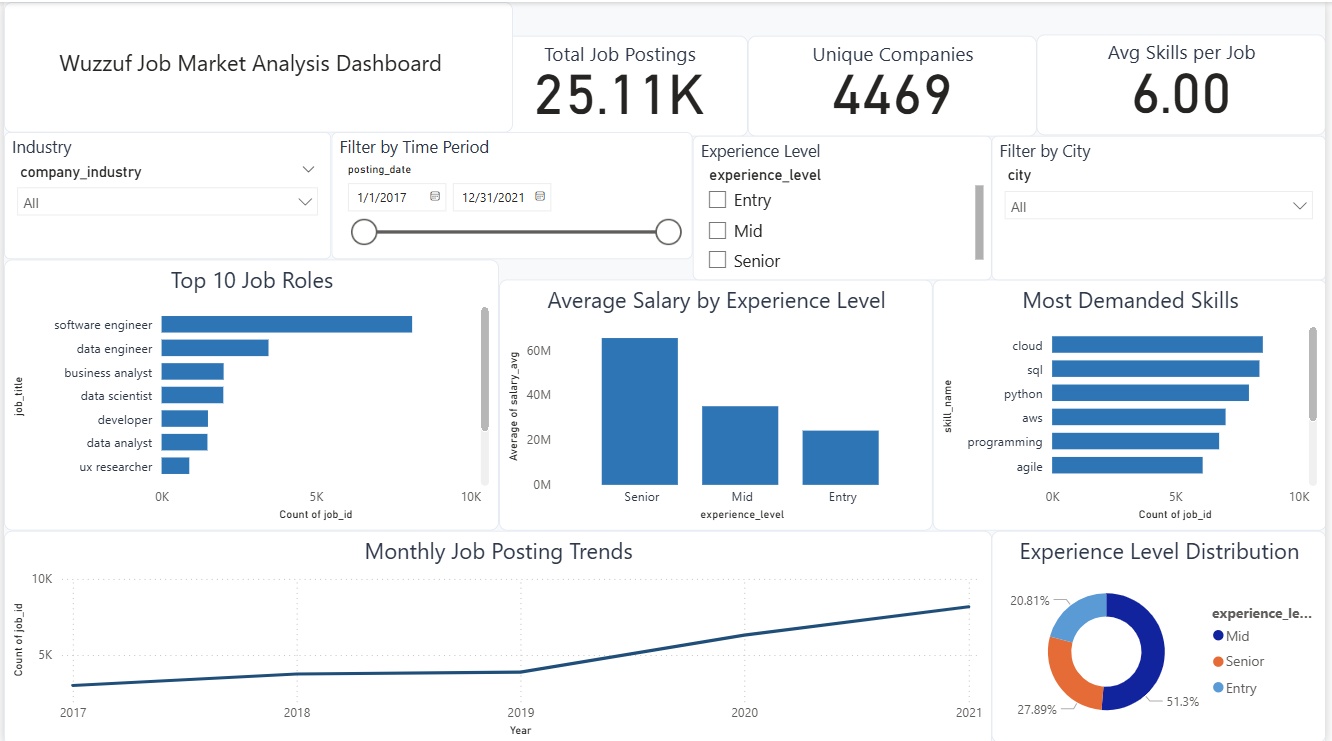

This screenshot's page, from the dashboard's own definition file:
{"tool":"powerbi","page":{"name":"Page 1","canvas":[1280,720],"ordinal":0},"visuals":[{"type":"card","title":"Total Job Postings","fields":{"Values":["CountNonNull(jobs_powerbi.job_id)"]},"box":[470.7,32.9,249.7,97.4],"z":0},{"type":"card","title":"Unique Companies","fields":{"Values":["Count(jobs_powerbi.company_name)"]},"box":[720.4,32.9,279.9,97.4],"z":1000},{"type":"clusteredBarChart","title":"Top 10 Job Roles","fields":{"Category":["jobs_powerbi.job_title"],"Y":["CountNonNull(jobs_powerbi.job_id)"]},"box":[0,249.7,478.9,262.1],"z":2000},{"type":"clusteredBarChart","title":"Most Demanded Skills","fields":{"Category":["skills_powerbi.skill_name"],"Y":["CountNonNull(job_skills_powerbi.job_id)"]},"box":[898.8,269,381.5,242.9],"z":3000},{"type":"donutChart","title":"Experience Level Distribution","fields":{"Category":["jobs_powerbi.experience_level"],"Y":["CountNonNull(jobs_powerbi.job_id)"]},"box":[956.4,511.8,323.8,205.8],"z":4000},{"type":"clusteredColumnChart","title":"Average Salary by Experience Level","fields":{"Category":["jobs_powerbi.experience_level"],"Y":["Avg(jobs_powerbi.salary_avg)"]},"box":[478.9,269,419.9,242.9],"z":5000},{"type":"lineChart","title":"Monthly Job Posting Trends","fields":{"Category":["jobs_powerbi.posting_date.Variation.Date Hierarchy.Year","jobs_powerbi.posting_date.Variation.Date Hierarchy.Quarter","jobs_powerbi.posting_date.Variation.Date Hierarchy.Month","jobs_powerbi.posting_date.Variation.Date Hierarchy.Day"],"Y":["CountNonNull(jobs_powerbi.job_id)"]},"box":[0,511.8,956.4,208.6],"z":6000},{"type":"slicer","title":"Industry","fields":{"Values":["jobs_powerbi.company_industry"]},"box":[0,126.2,317,123.5],"z":7000},{"type":"slicer","title":"Experience Level","fields":{"Values":["jobs_powerbi.experience_level"]},"box":[666.9,129,289.5,140],"z":8000},{"type":"slicer","title":"Filter by City","fields":{"Values":["jobs_powerbi.city"]},"box":[956.4,129,323.8,140],"z":9000},{"type":"slicer","title":"Filter by Time Period","fields":{"Values":["jobs_powerbi.posting_date"]},"box":[317,126.2,349.9,123.5],"z":10000},{"type":"card","title":"Avg Skills per Job","fields":{"Values":["jobs_powerbi.Skills per Job"]},"box":[1000.3,31.6,279.9,97.4],"z":11000},{"type":"textbox","box":[0,0,492.6,126.2],"z":12000}]}

Visuals, with their boxes in screenshot pixels (x1, y1, x2, y2), scaled from the page's 1280x720 canvas onto the 1332x741 screenshot:
"Total Job Postings" card: {"left": 490, "top": 34, "right": 750, "bottom": 134}
"Unique Companies" card: {"left": 750, "top": 34, "right": 1041, "bottom": 134}
"Top 10 Job Roles" clusteredBarChart: {"left": 0, "top": 257, "right": 498, "bottom": 527}
"Most Demanded Skills" clusteredBarChart: {"left": 935, "top": 277, "right": 1331, "bottom": 527}
"Experience Level Distribution" donutChart: {"left": 995, "top": 527, "right": 1331, "bottom": 739}
"Average Salary by Experience Level" clusteredColumnChart: {"left": 498, "top": 277, "right": 935, "bottom": 527}
"Monthly Job Posting Trends" lineChart: {"left": 0, "top": 527, "right": 995, "bottom": 740}
"Industry" slicer: {"left": 0, "top": 130, "right": 330, "bottom": 257}
"Experience Level" slicer: {"left": 694, "top": 133, "right": 995, "bottom": 277}
"Filter by City" slicer: {"left": 995, "top": 133, "right": 1331, "bottom": 277}
"Filter by Time Period" slicer: {"left": 330, "top": 130, "right": 694, "bottom": 257}
"Avg Skills per Job" card: {"left": 1041, "top": 33, "right": 1331, "bottom": 133}
textbox: {"left": 0, "top": 0, "right": 513, "bottom": 130}
